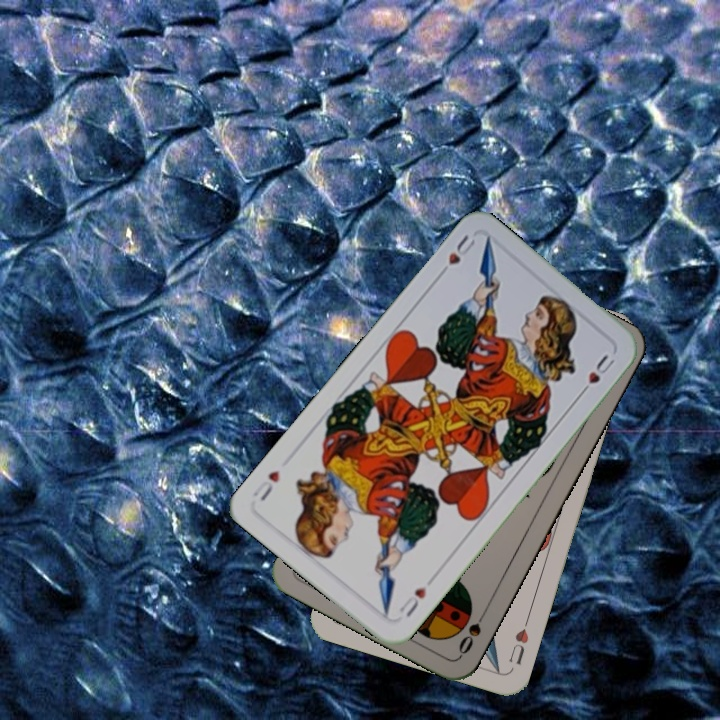HU: (433, 230, 478, 281), (504, 614, 532, 668), (395, 583, 429, 620)
SO: (454, 604, 491, 658)
